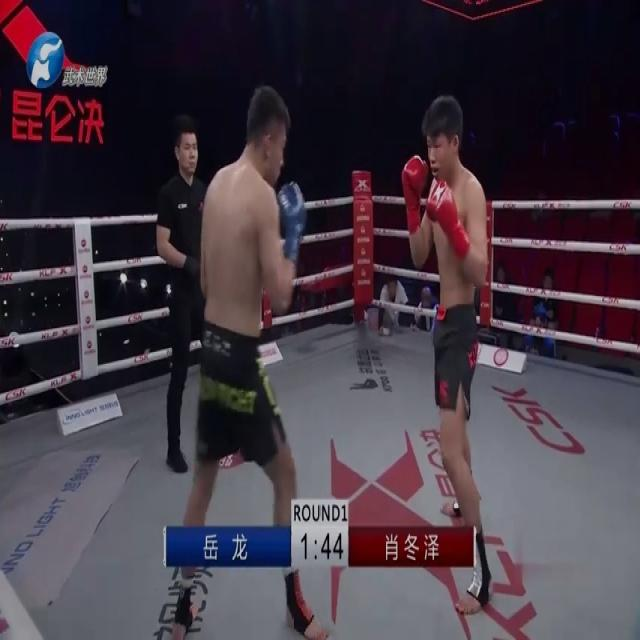fight: (138, 66, 511, 638)
non-fight: (150, 115, 217, 477), (524, 270, 561, 358), (376, 268, 409, 332)
